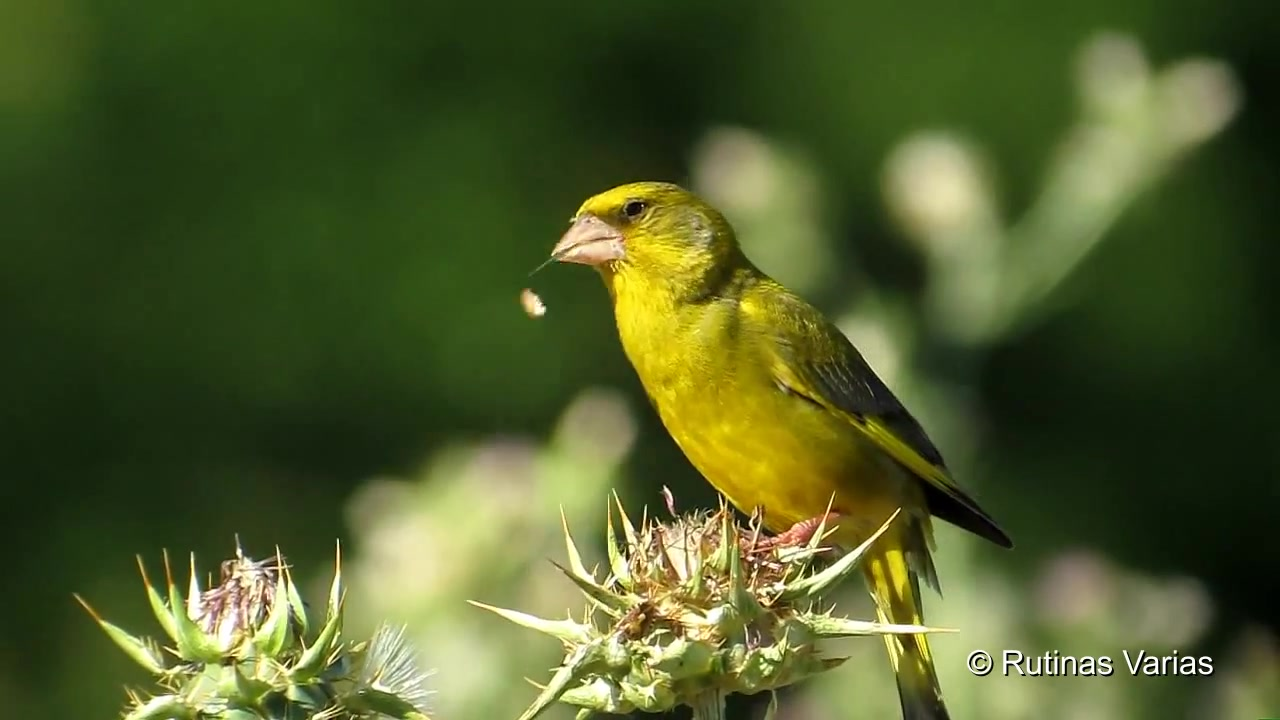bird: (553, 180, 1018, 720)
